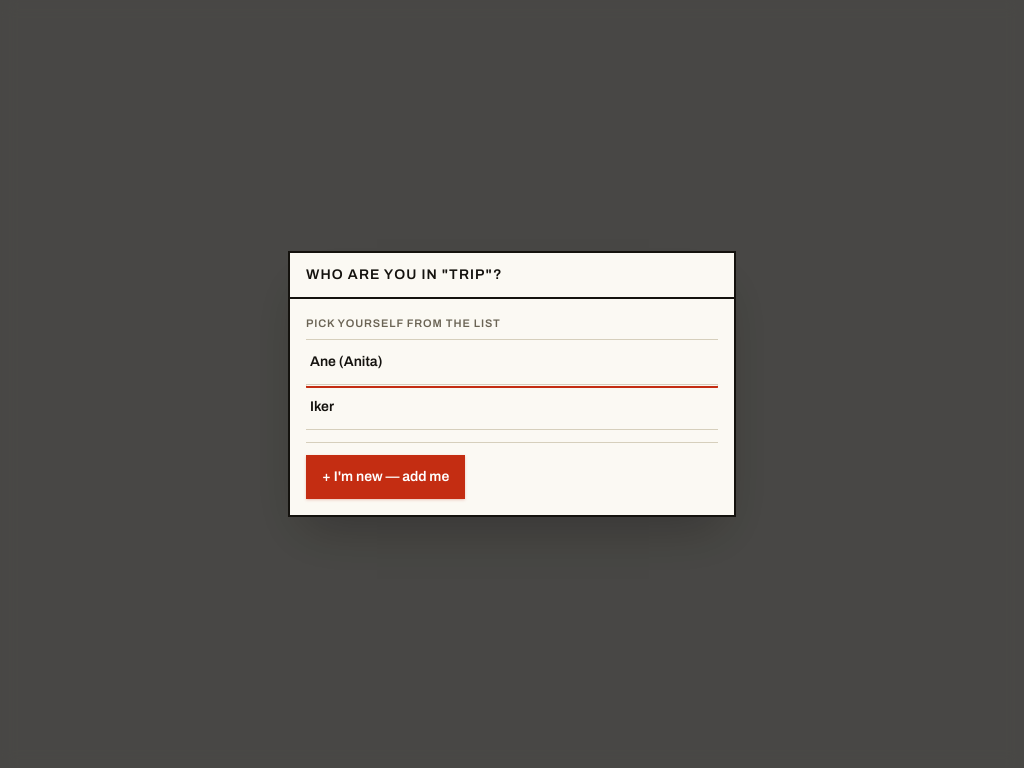
IdentificationModal › asks for a nickname when the name is already taken, whatever its case
Later steps or results of the test are not shown.
Click the button "+ I'm new — add me" at (386, 477), box [306,455,465,499]
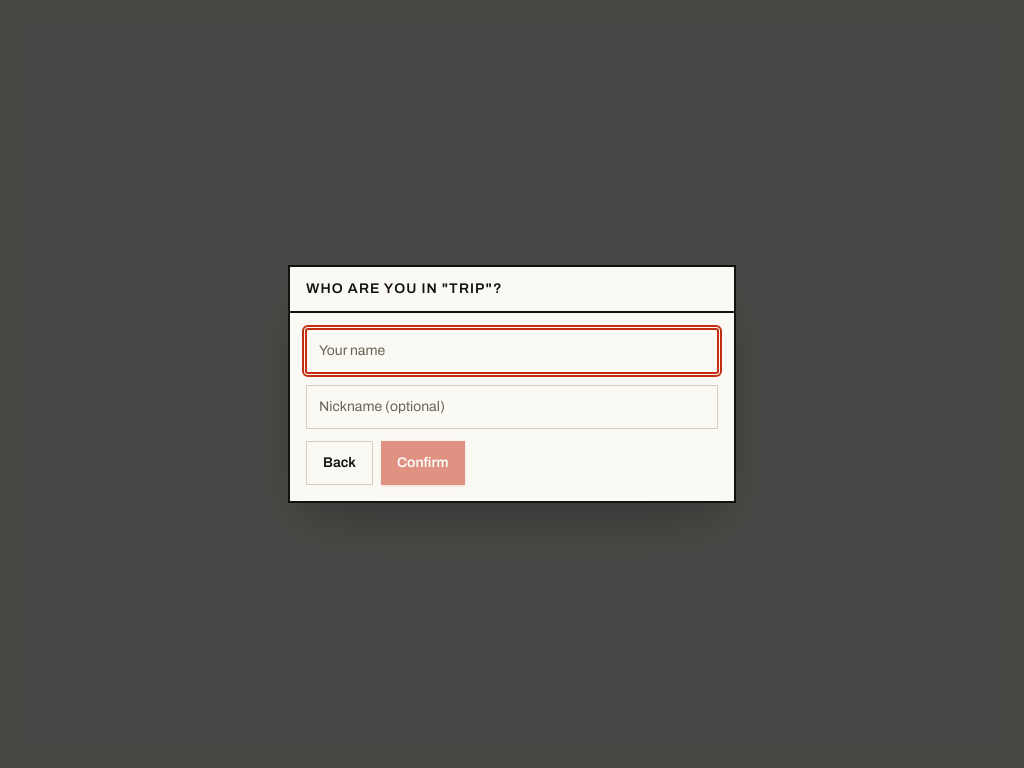
Type " iker " into the field with placeholder "Your name" at (512, 351), box [306,329,718,373]
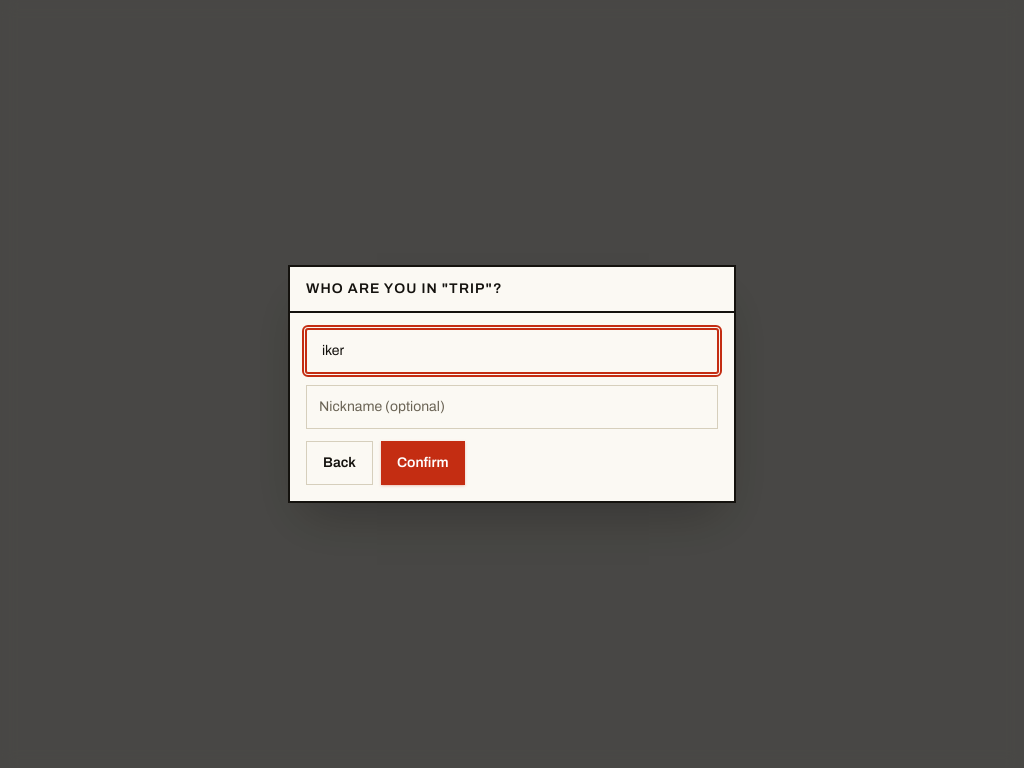
Click the button "Confirm" at (423, 463), box [381,441,464,485]
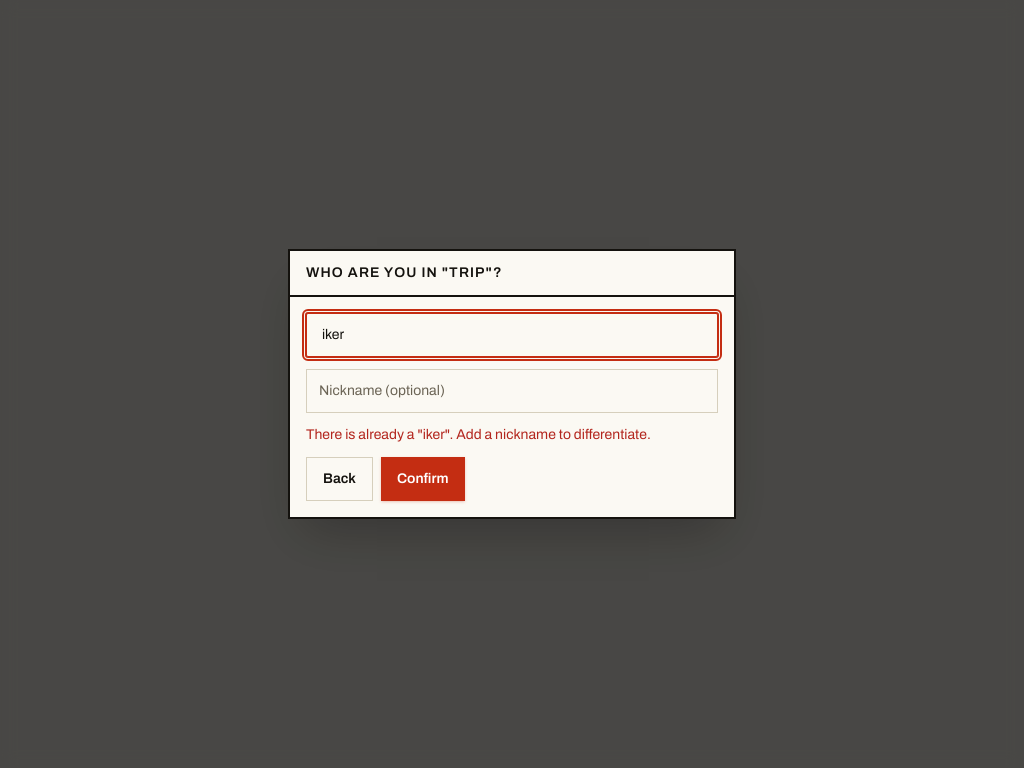
Expected: the text "There is already a \"iker\". Add a nickname to differentiate." is shown, [306,427,651,442]
